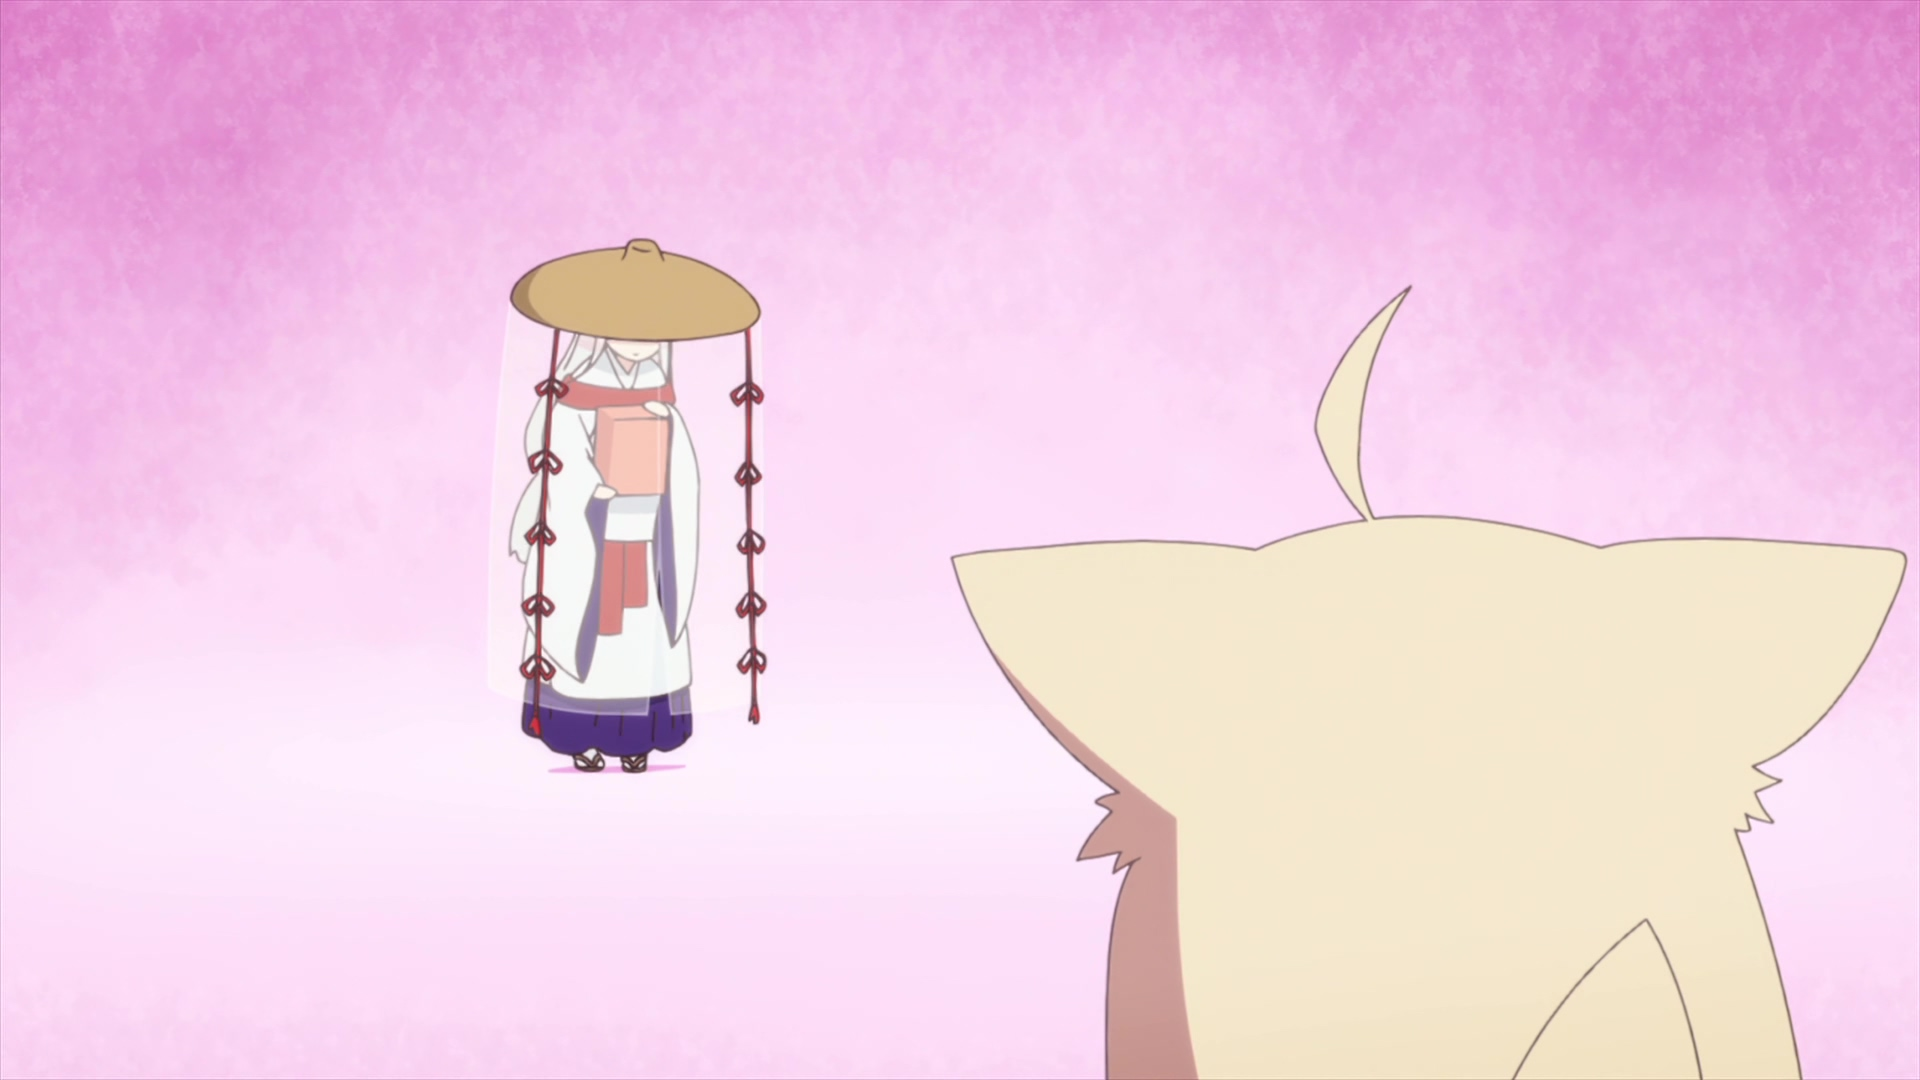其他: (492, 237, 771, 778)
柚: (951, 287, 1907, 1080)
